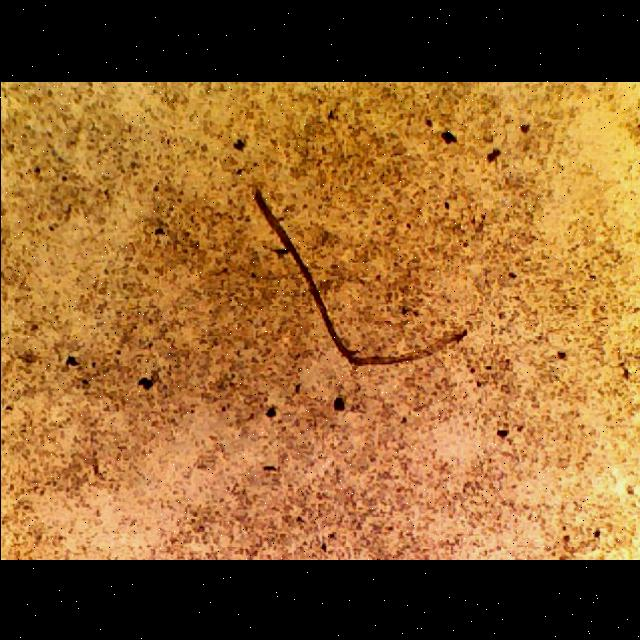Fibre: (250, 172, 468, 364)
